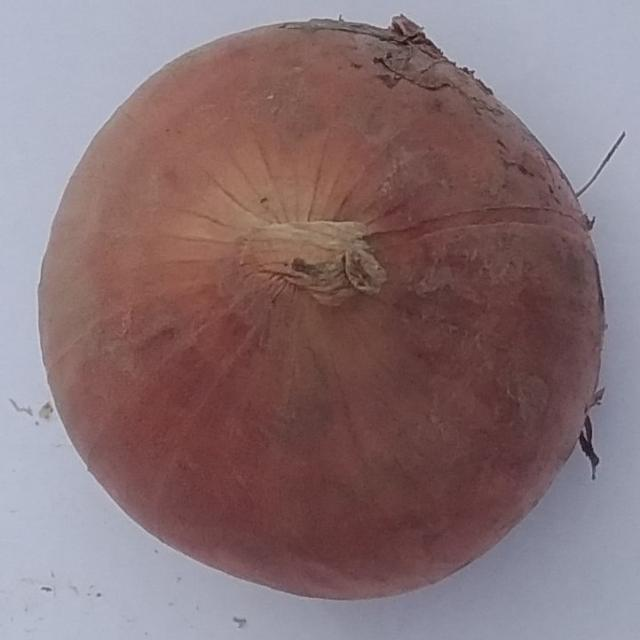onion: (33, 13, 610, 606)
